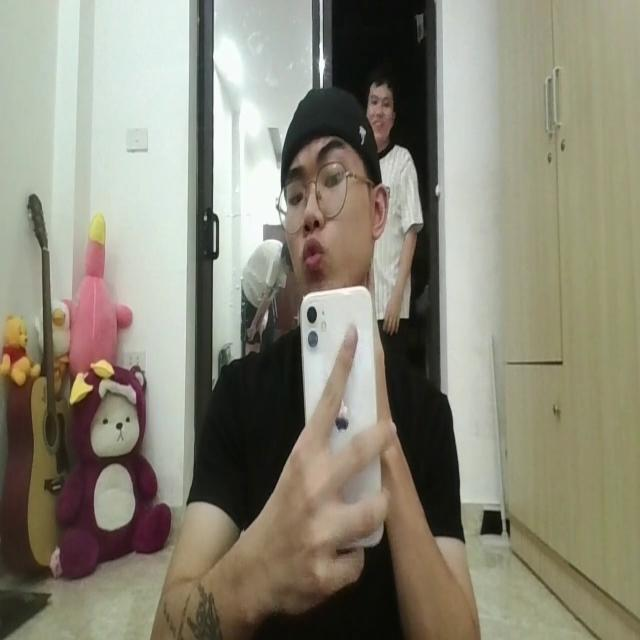extra_person: (366, 82, 422, 322)
phone: (303, 276, 382, 553)
student: (157, 86, 477, 640)
